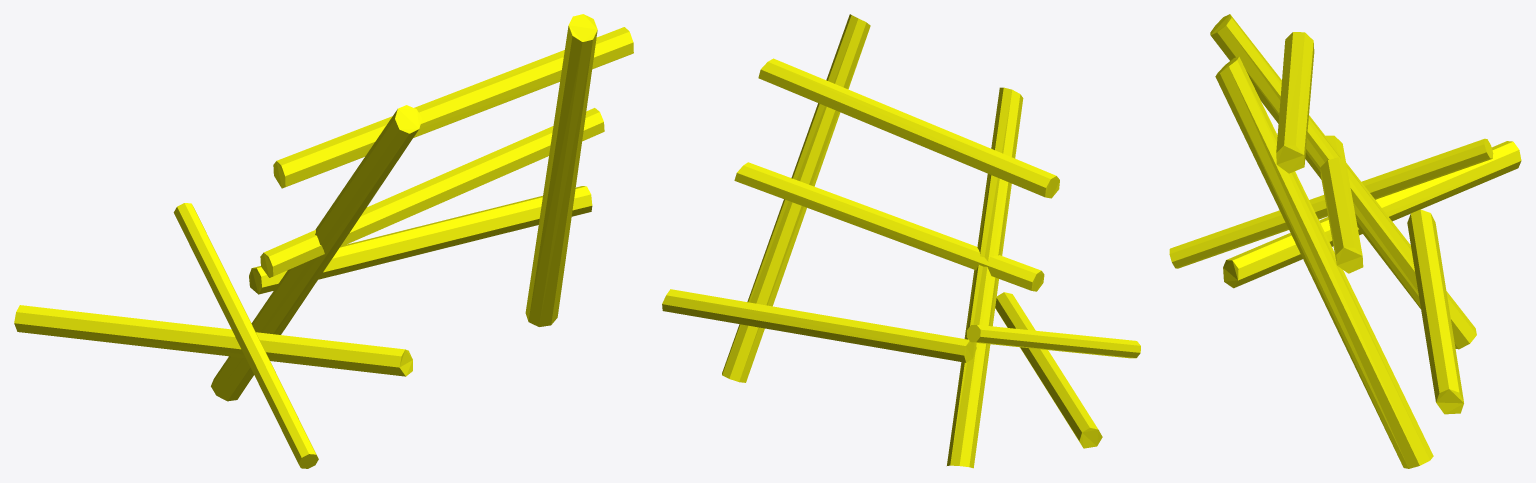
Rendered from camp_woodhut_break01.glb.
The picture shows the model from 3 angles, left to right: view 1: azimuth 30°, elevation 25°; view 2: azimuth 150°, elevation 25°; view 3: azimuth 270°, elevation 25°; orthographic projection. The views are drawn at different scales.
Parts seen in each view (by area): view 1: camp_woodhut_break01; view 2: camp_woodhut_break01; view 3: camp_woodhut_break01.
Part boxes in pixels (x1=…): camp_woodhut_break01: x1=14, y1=14, x2=633, y2=468; camp_woodhut_break01: x1=662, y1=14, x2=1140, y2=468; camp_woodhut_break01: x1=1169, y1=14, x2=1521, y2=468.
Size of the model in its own units: 6.67 by 4.72 by 3.73.
1 material, 1 textured.
